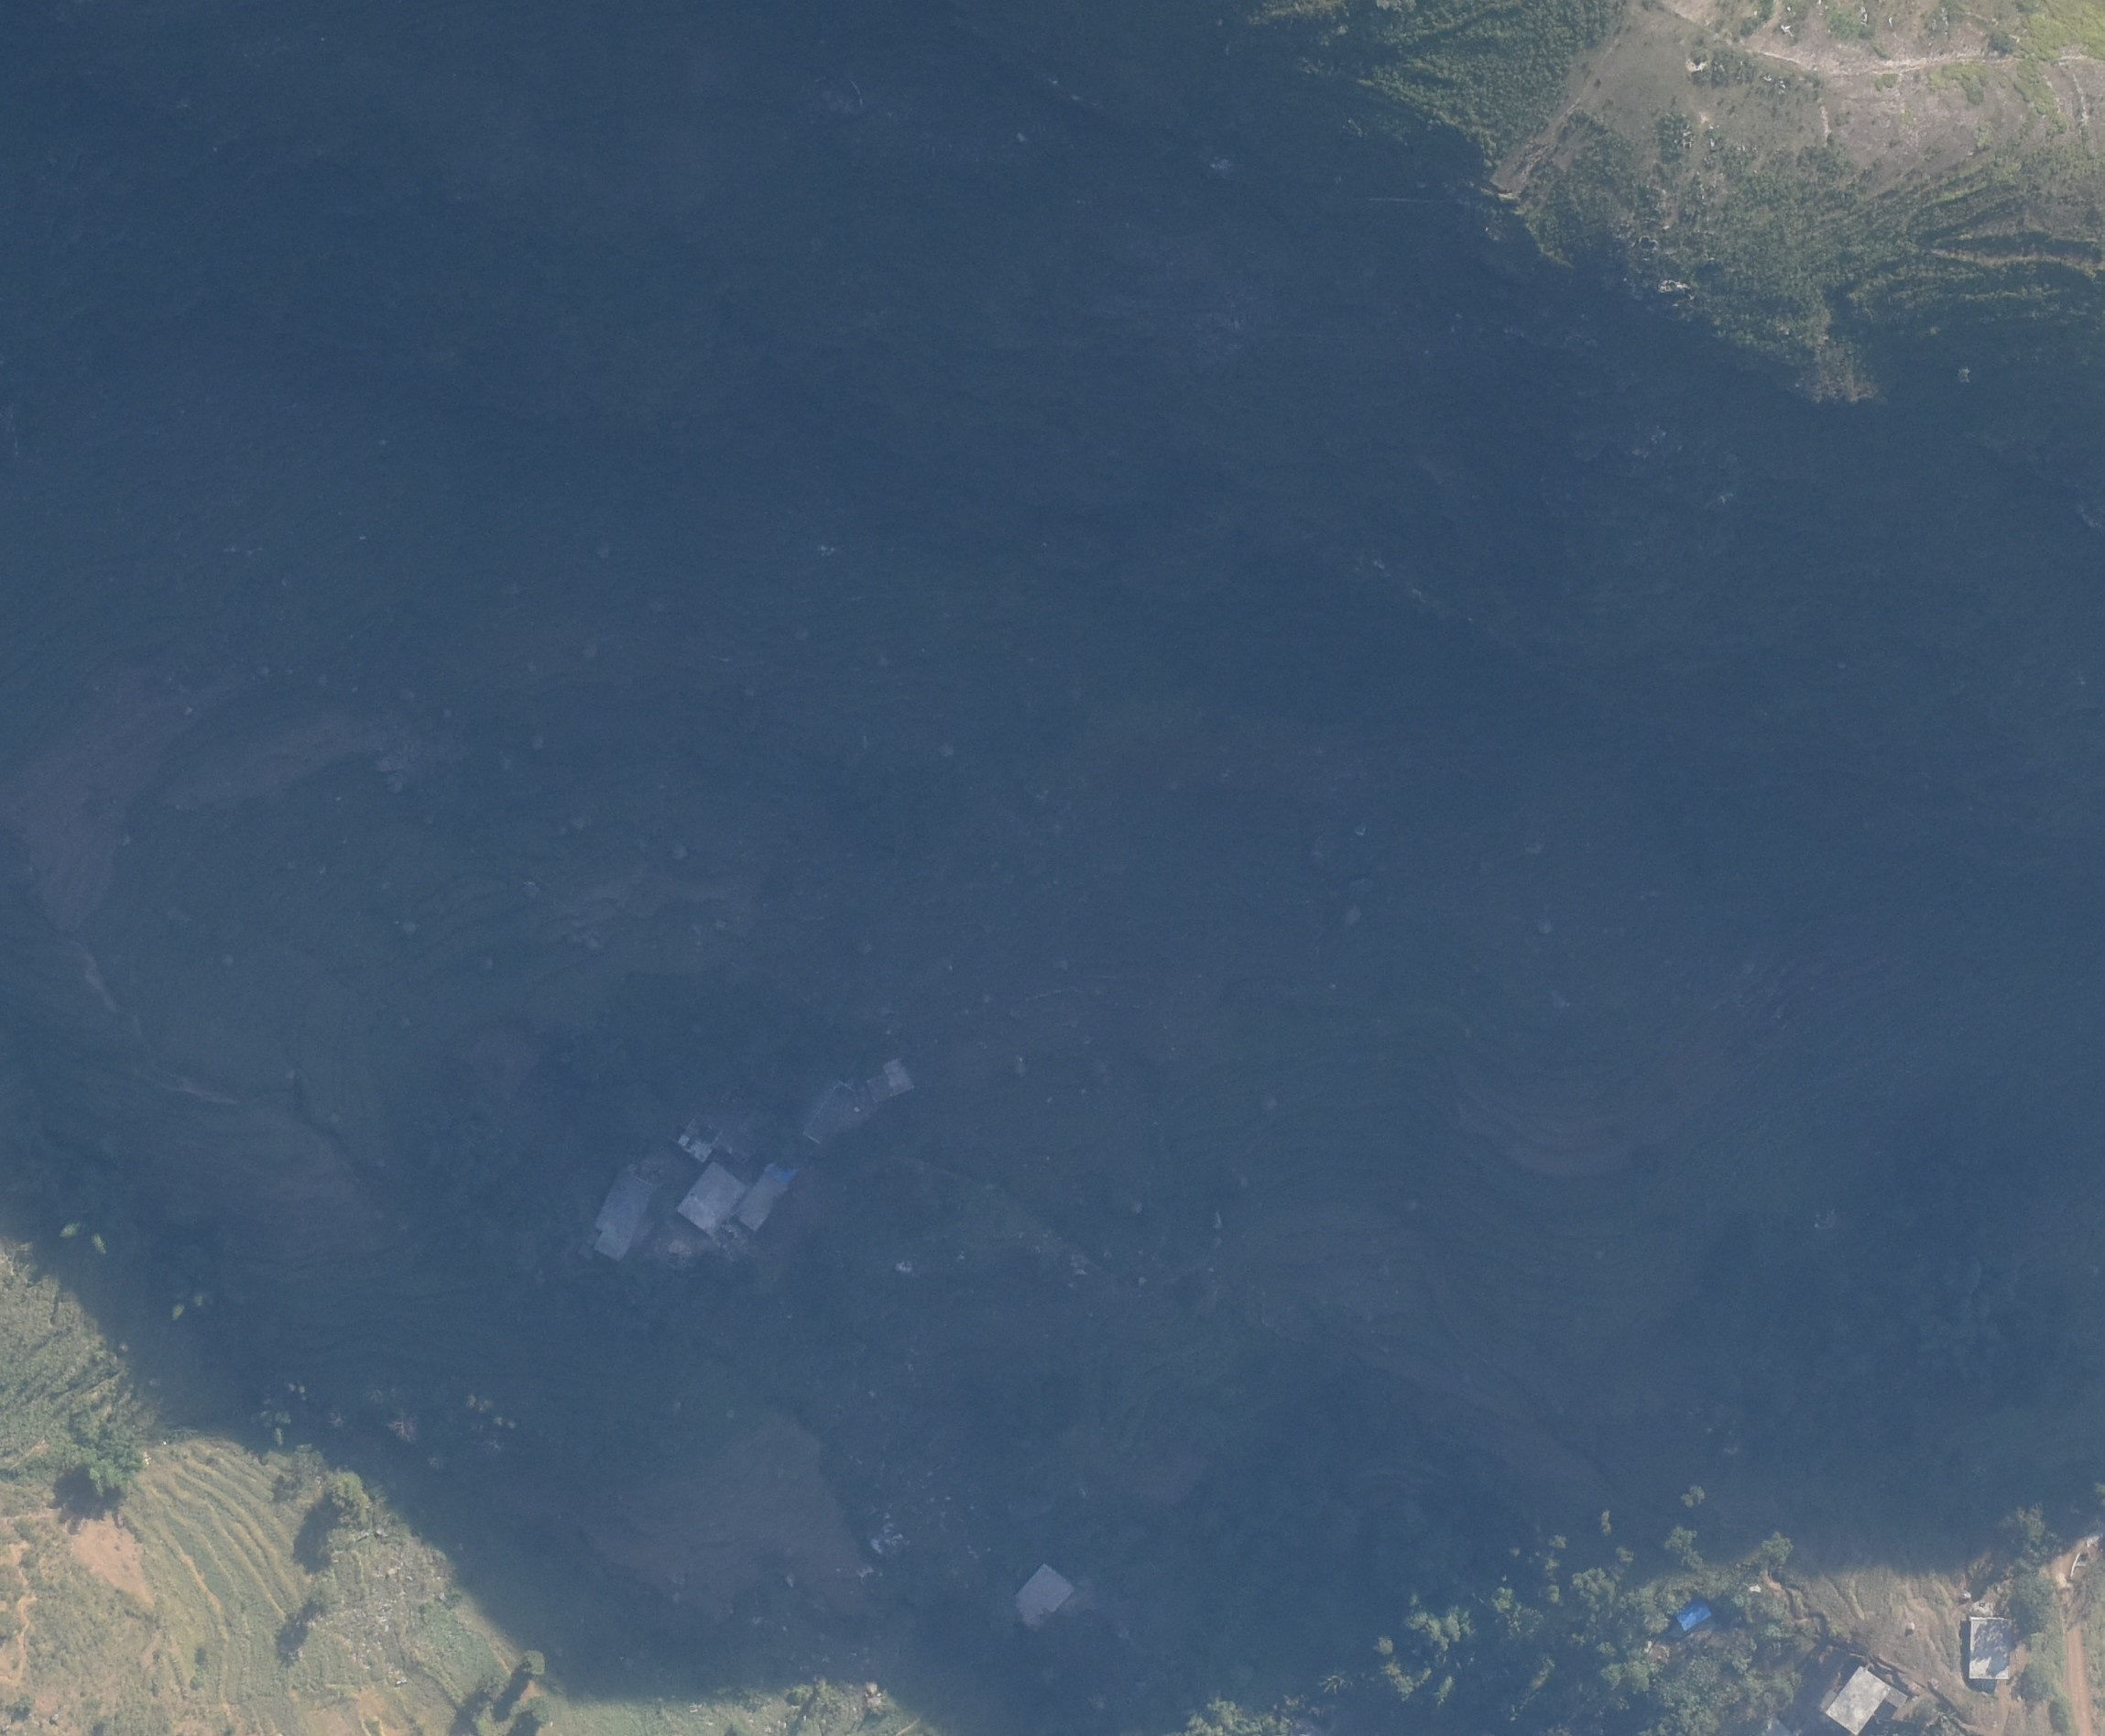building: (801, 1058, 914, 1147), (594, 1165, 654, 1261), (1825, 1665, 1908, 1731), (673, 1161, 744, 1235), (736, 1158, 797, 1231), (1014, 1560, 1074, 1628), (662, 1109, 725, 1161), (1969, 1619, 2011, 1680)
prefabricated-house: (1673, 1599, 1711, 1630)
